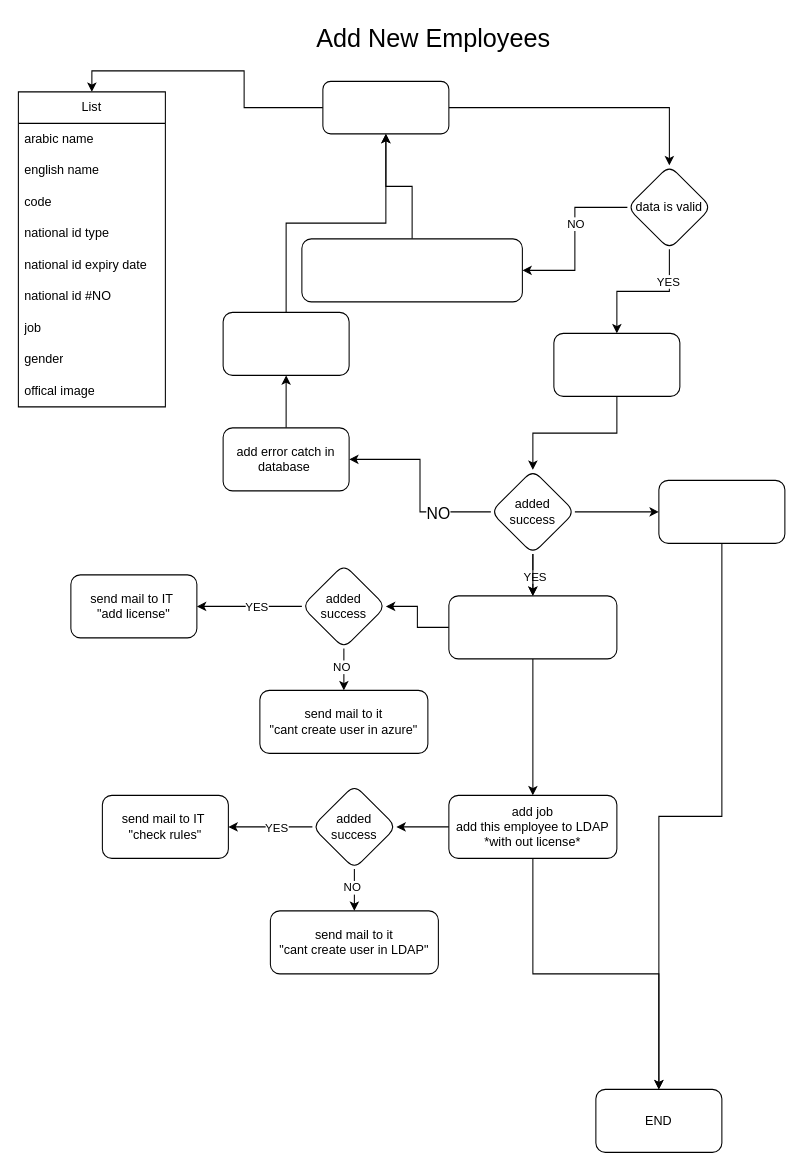
Image size: 803x1171. Some labels were removed from this diagram. The centre of each missing label's shape, as x and y in pixels:
add employee form requerd data only: point (385, 107)
add job add this employee to azure *with out license*: point (532, 627)
add record in hr_employees: point (616, 364)
return to add employee form page with validation messages: point (411, 270)
return to add employee form with error Happened: point (285, 343)
return to employee details page or step two add employees: point (721, 511)
